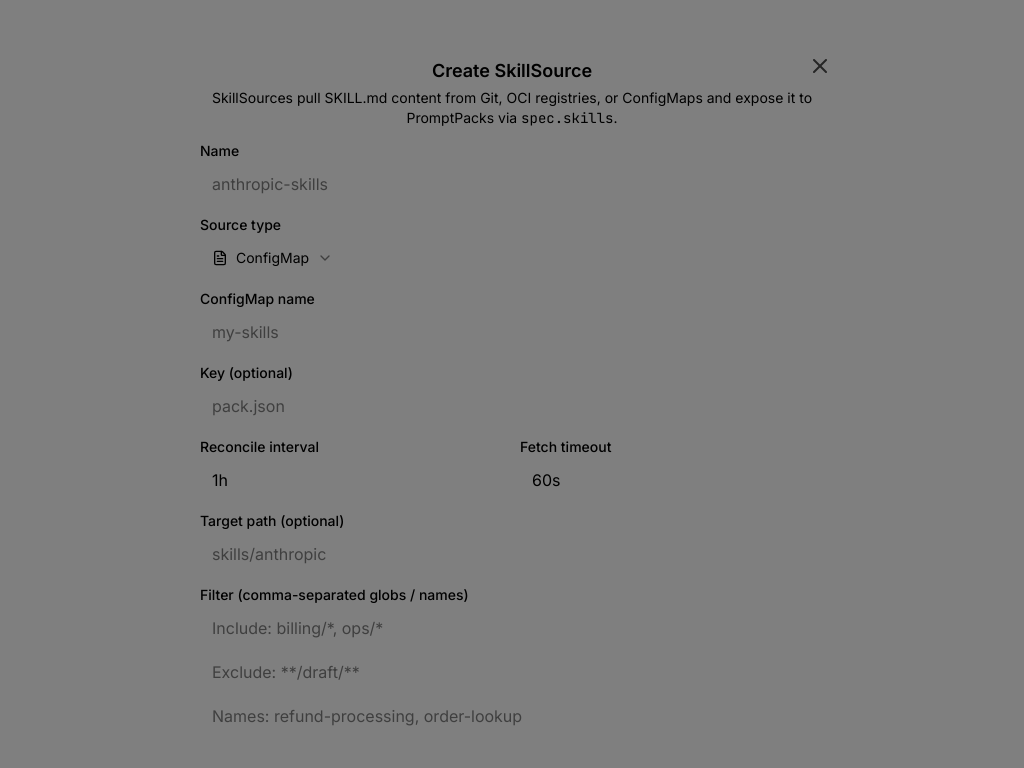
Test: SkillSourceDialog › surfaces server errors on submit
Type "skills-cm" into the field labelled "Name" at (512,184), box 200,166 -> 824,202
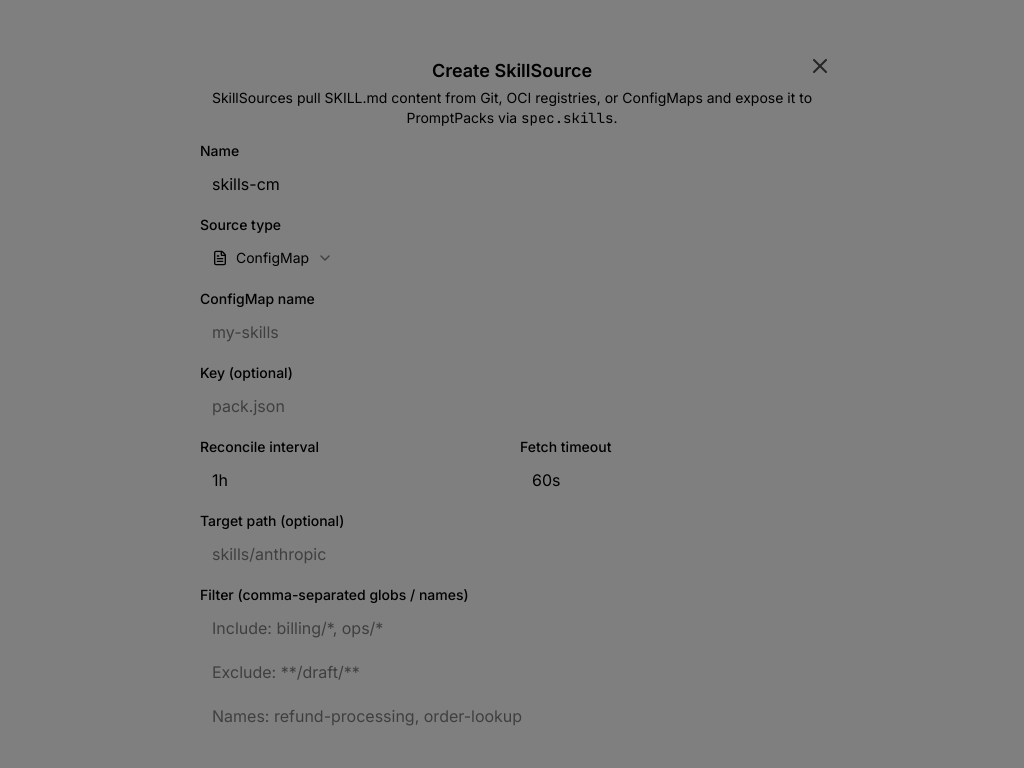
Type "cm" into the field labelled "ConfigMap name" at (512,332), box 200,314 -> 824,350
(page scrolled)
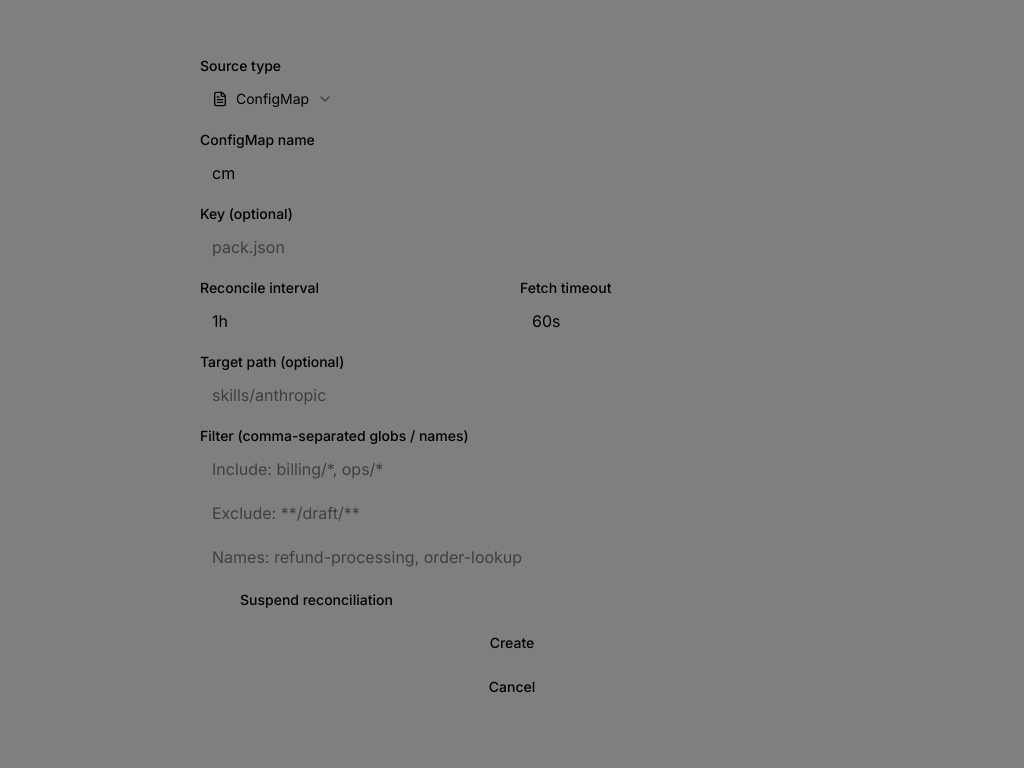
Click the button "Create" at (512,644), box 200,626 -> 824,662
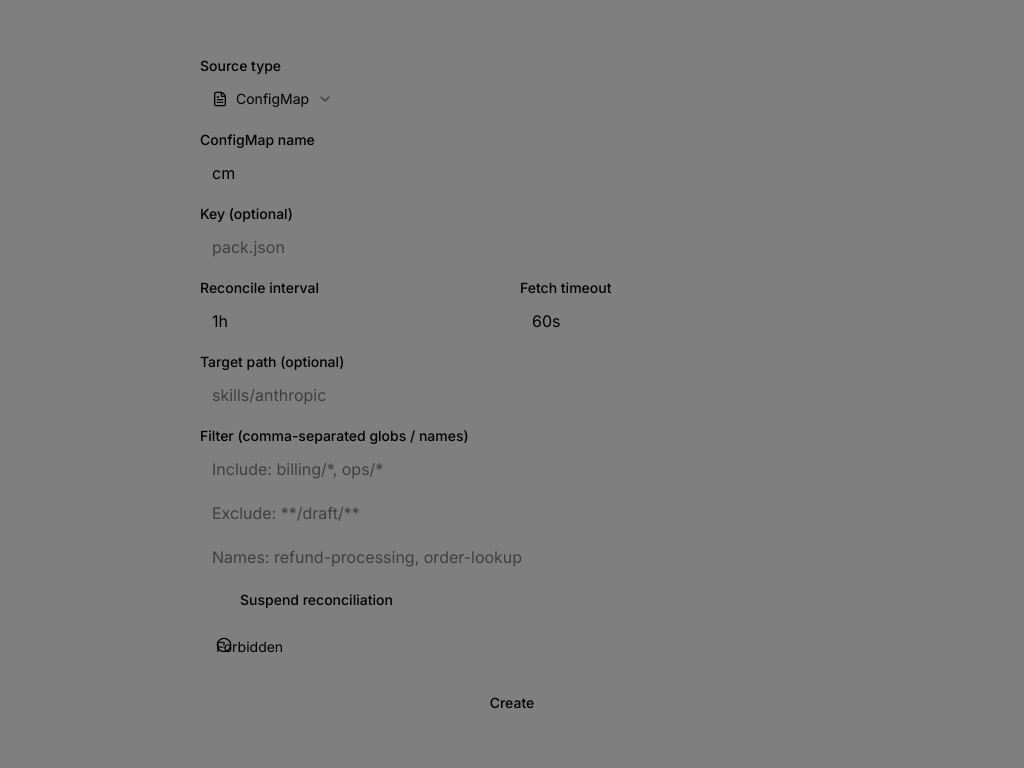
Result: the text "Forbidden" is shown at 216,639 -> 283,656
